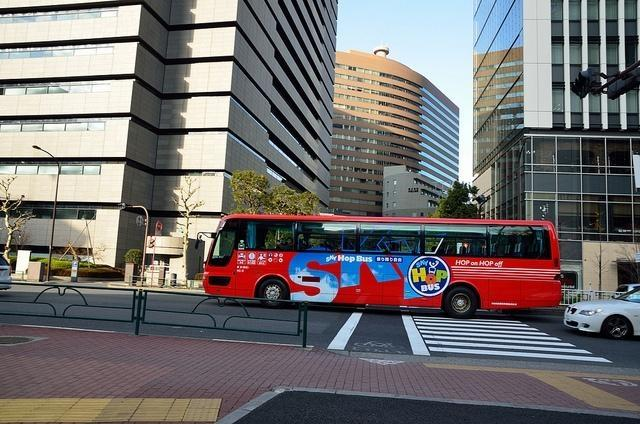bus: (194, 214, 562, 317)
car: (562, 286, 640, 338), (613, 284, 640, 299)
